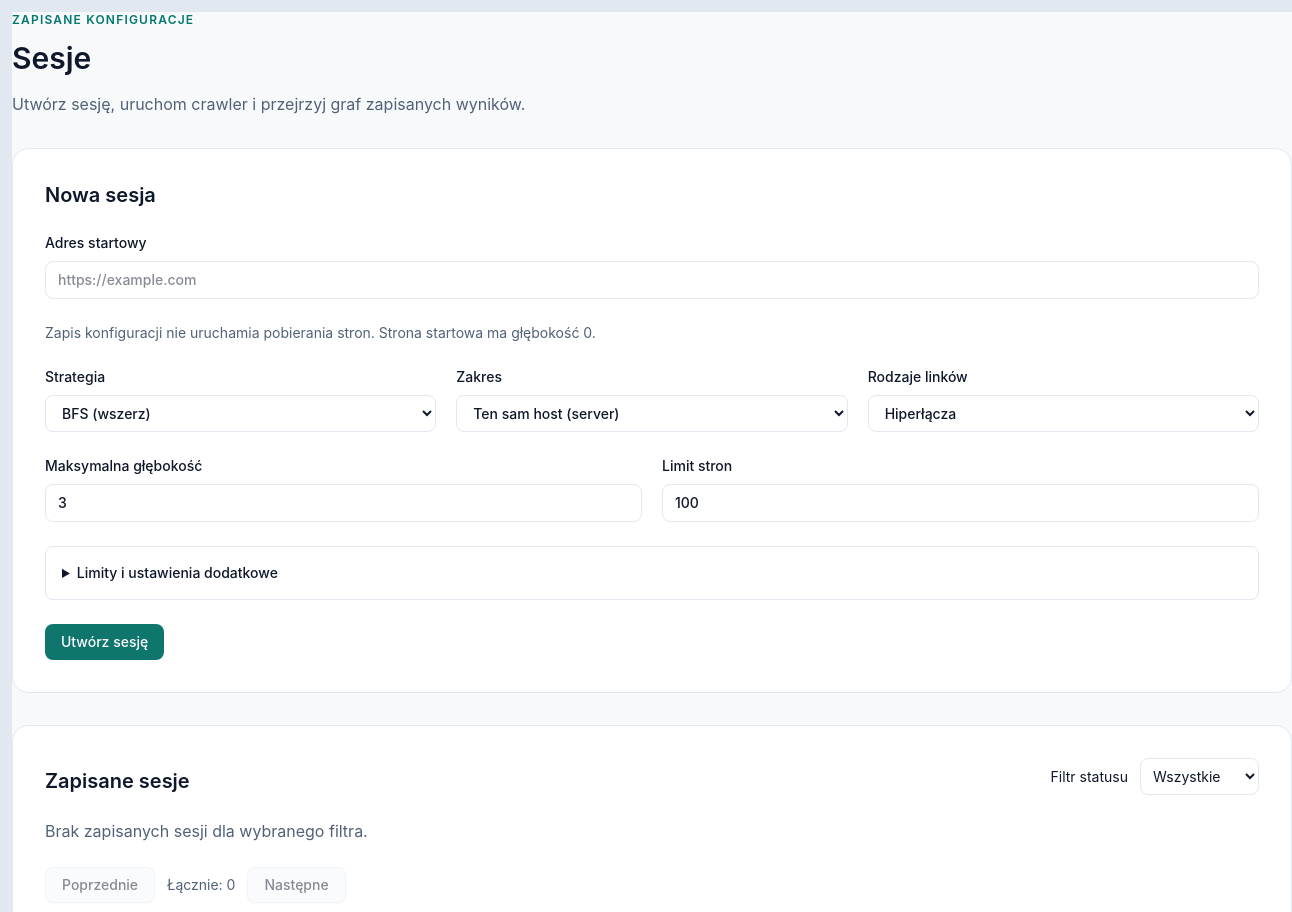
it: sessions UI › shows validation error and retains form data
Type "http://localhost" into the field labelled "Adres startowy". click: (652, 280)
box: x1=45 y1=261 x2=1259 y2=299
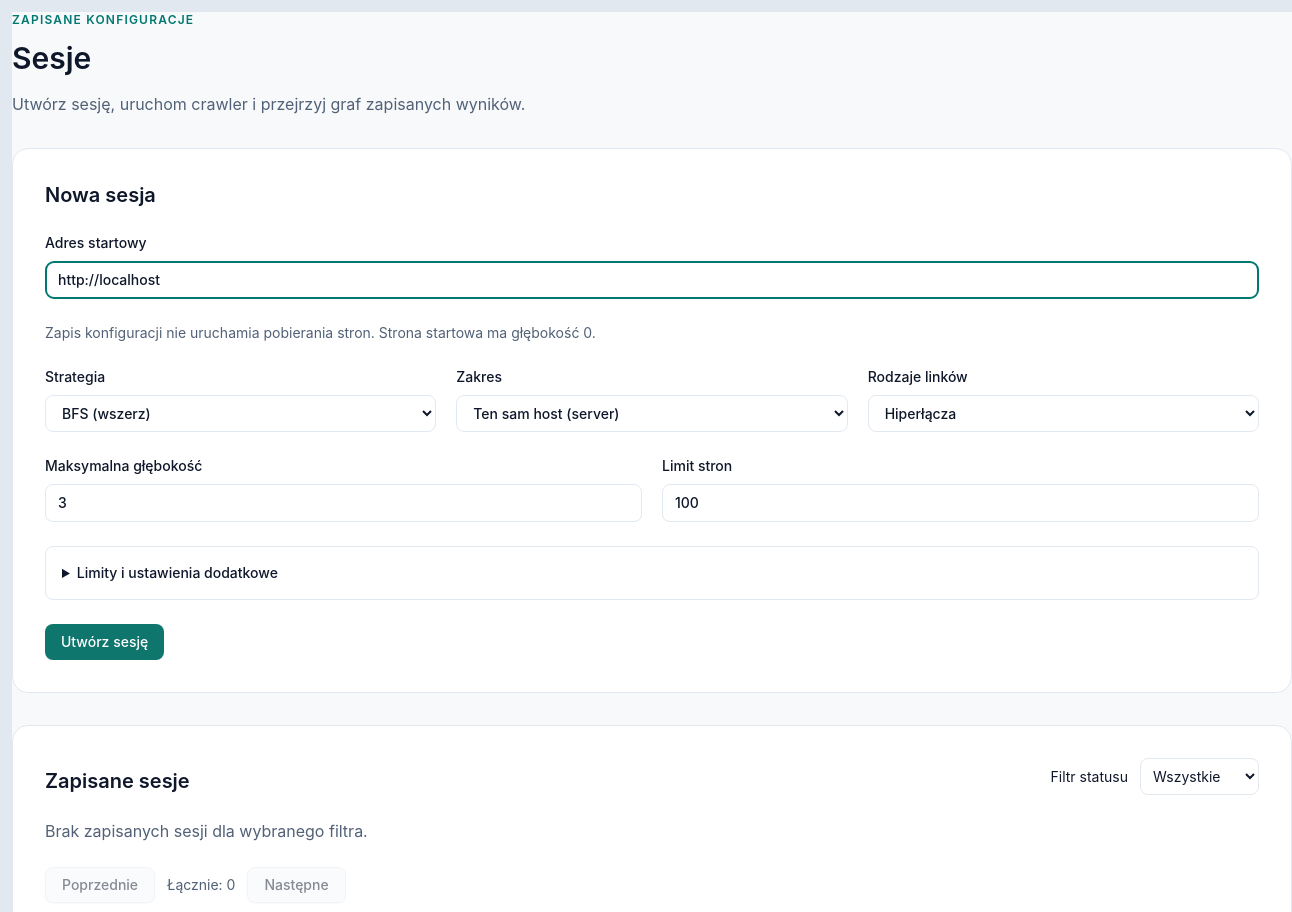
Click the button "Utwórz sesję". click: (105, 642)
box: x1=45 y1=624 x2=164 y2=660
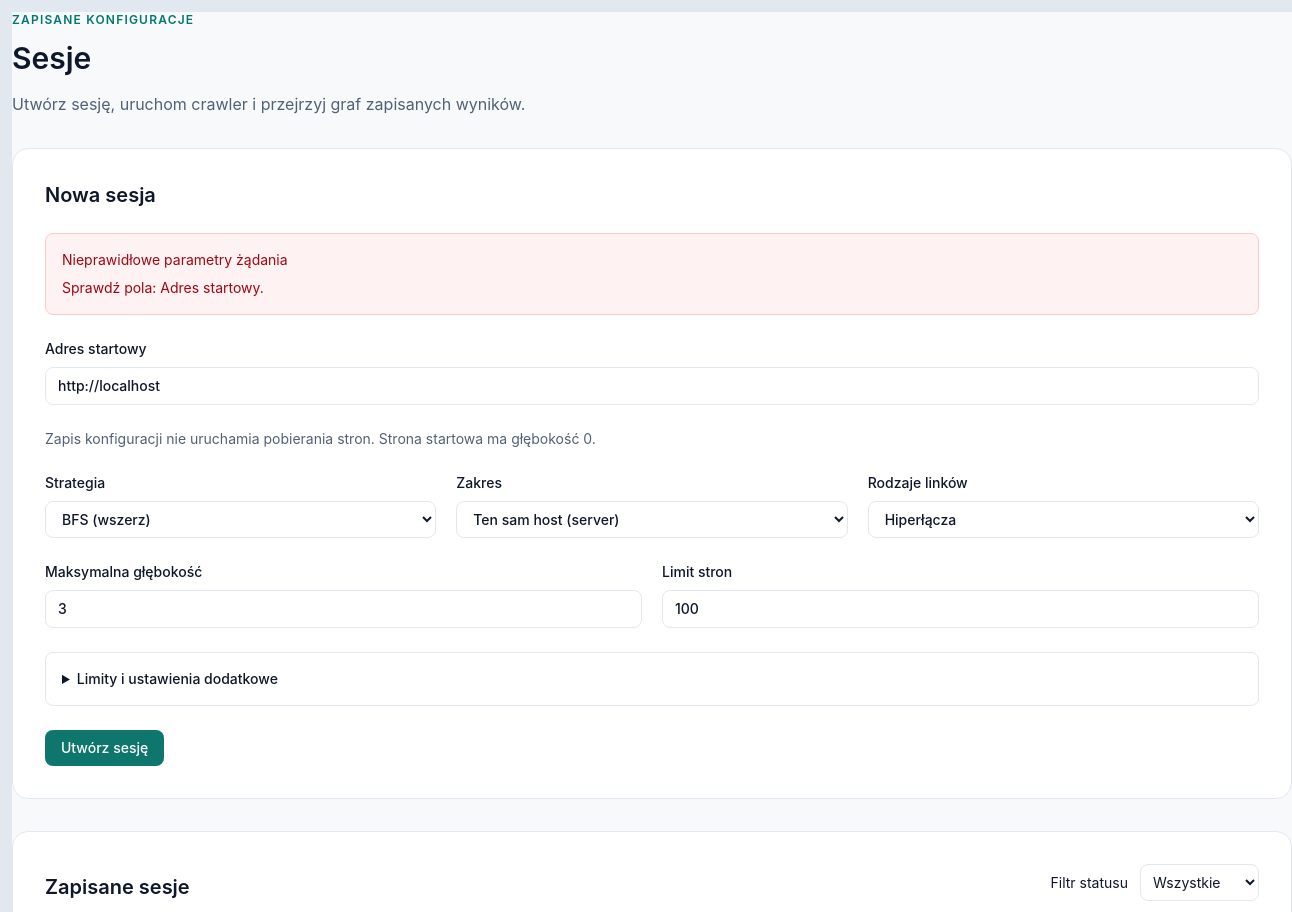
Expected: the button "Utwórz sesję" is enabled, x1=45 y1=730 x2=164 y2=766
Now the message shows "Sprawdź pola: Adres startowy", box x1=45 y1=233 x2=1259 y2=315
